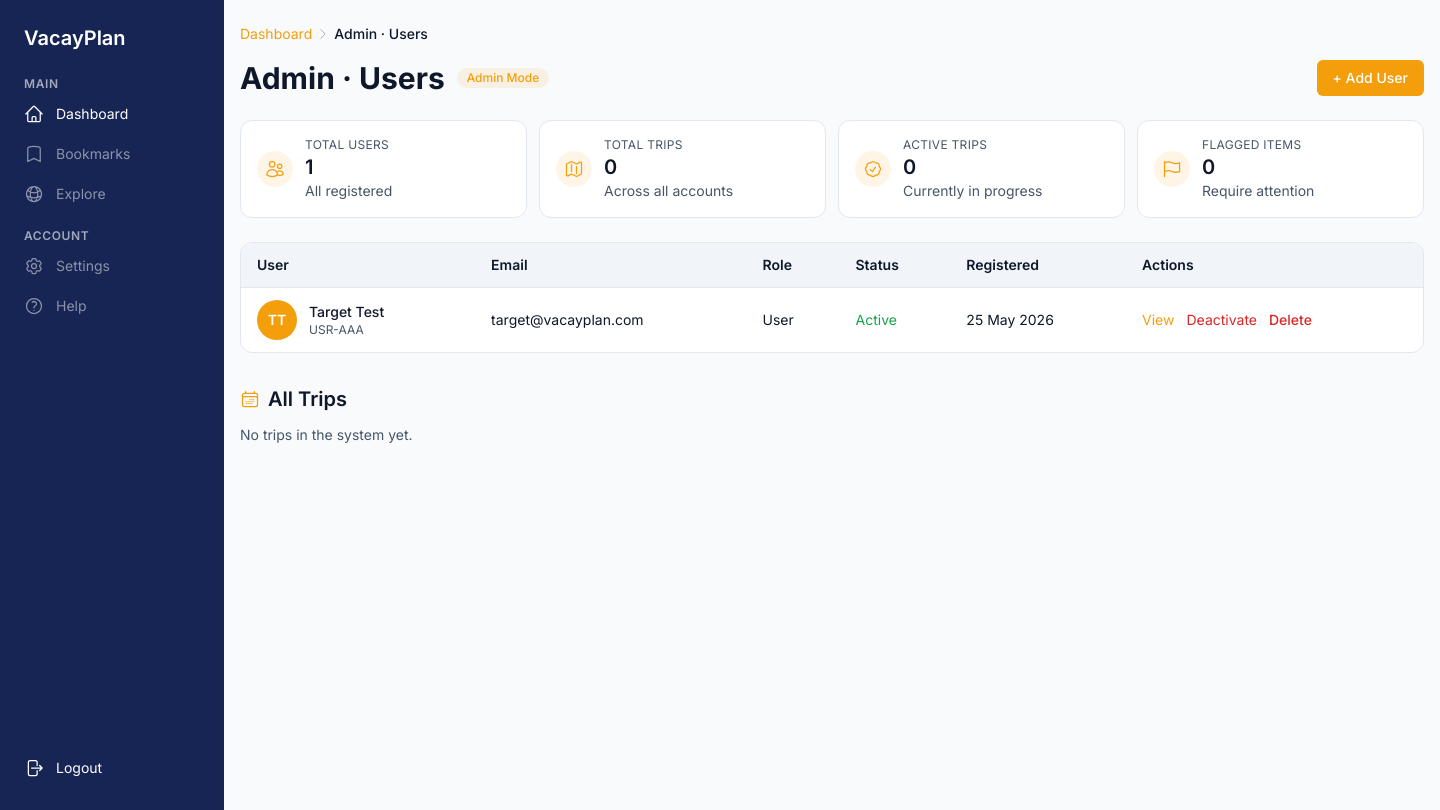
Scenario: AdminUserList › delete user › surfaces the server error message inside the dialog on DELETE failure
Click the button "Delete".
click(1290, 320)  # box [1269, 310, 1312, 330]
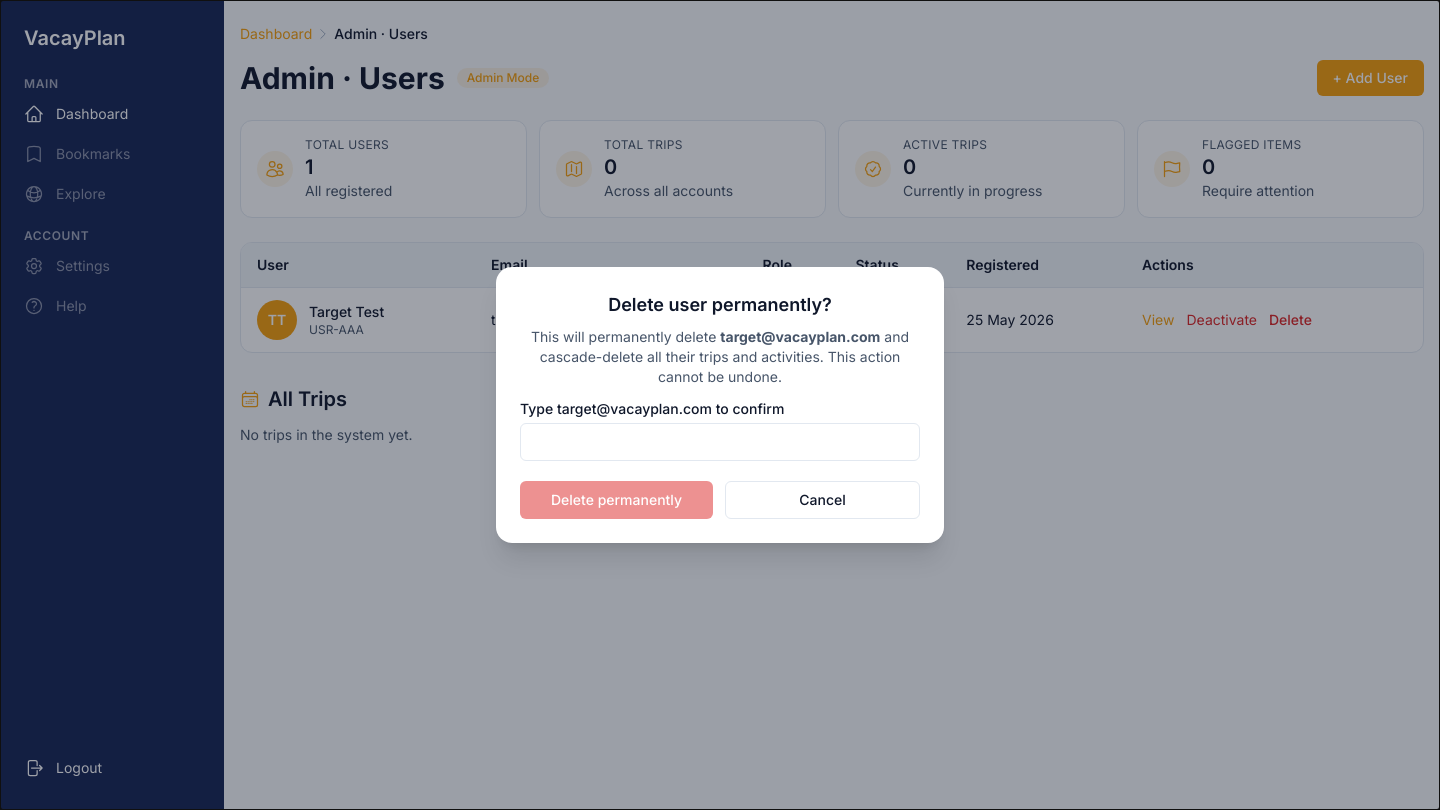
Type "target@vacayplan.com" into the field labelled "Type target@vacayplan.com to confirm".
click(720, 442); type("target@vacayplan.com")  # box [520, 423, 920, 461]
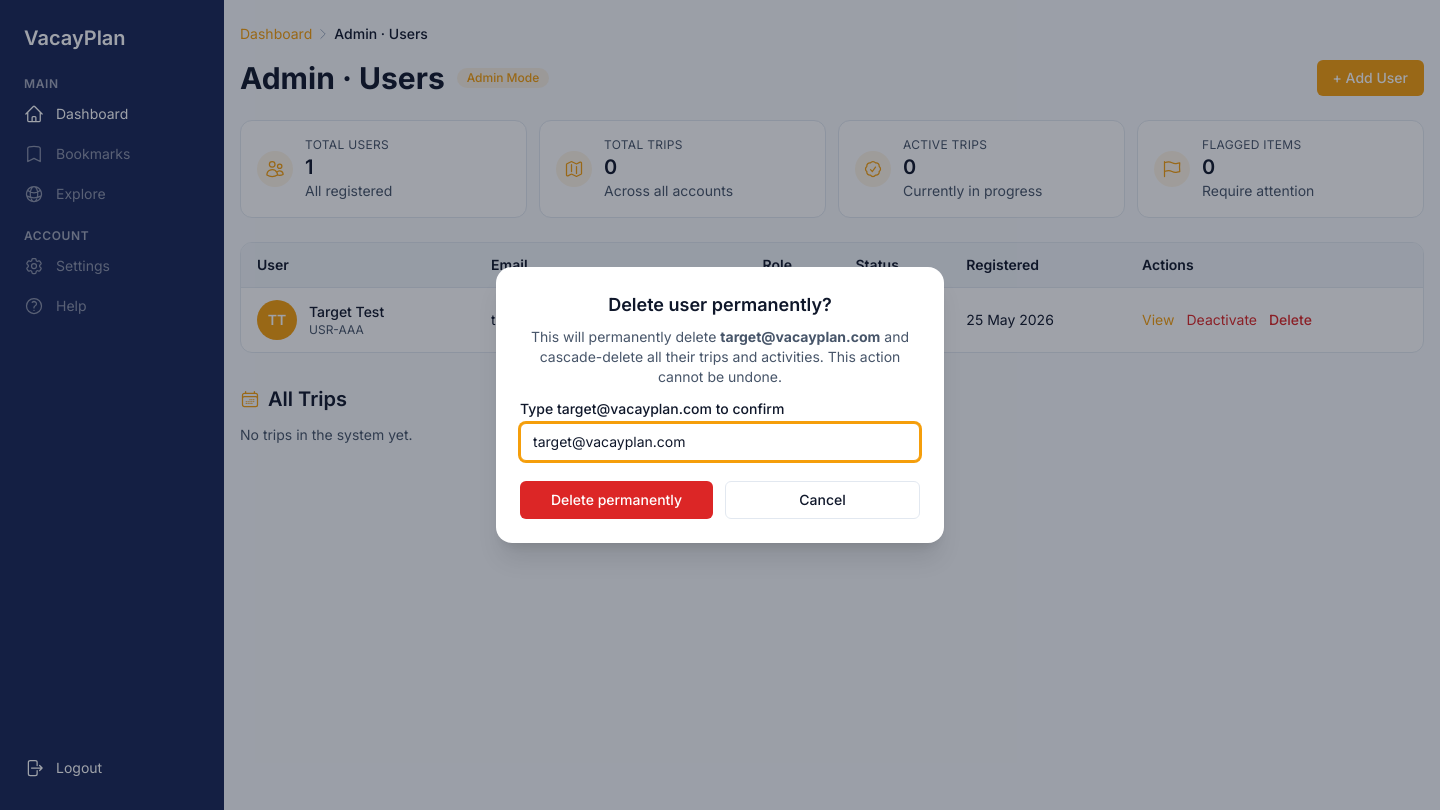
Click the button "Delete permanently".
click(616, 500)  # box [520, 481, 713, 519]
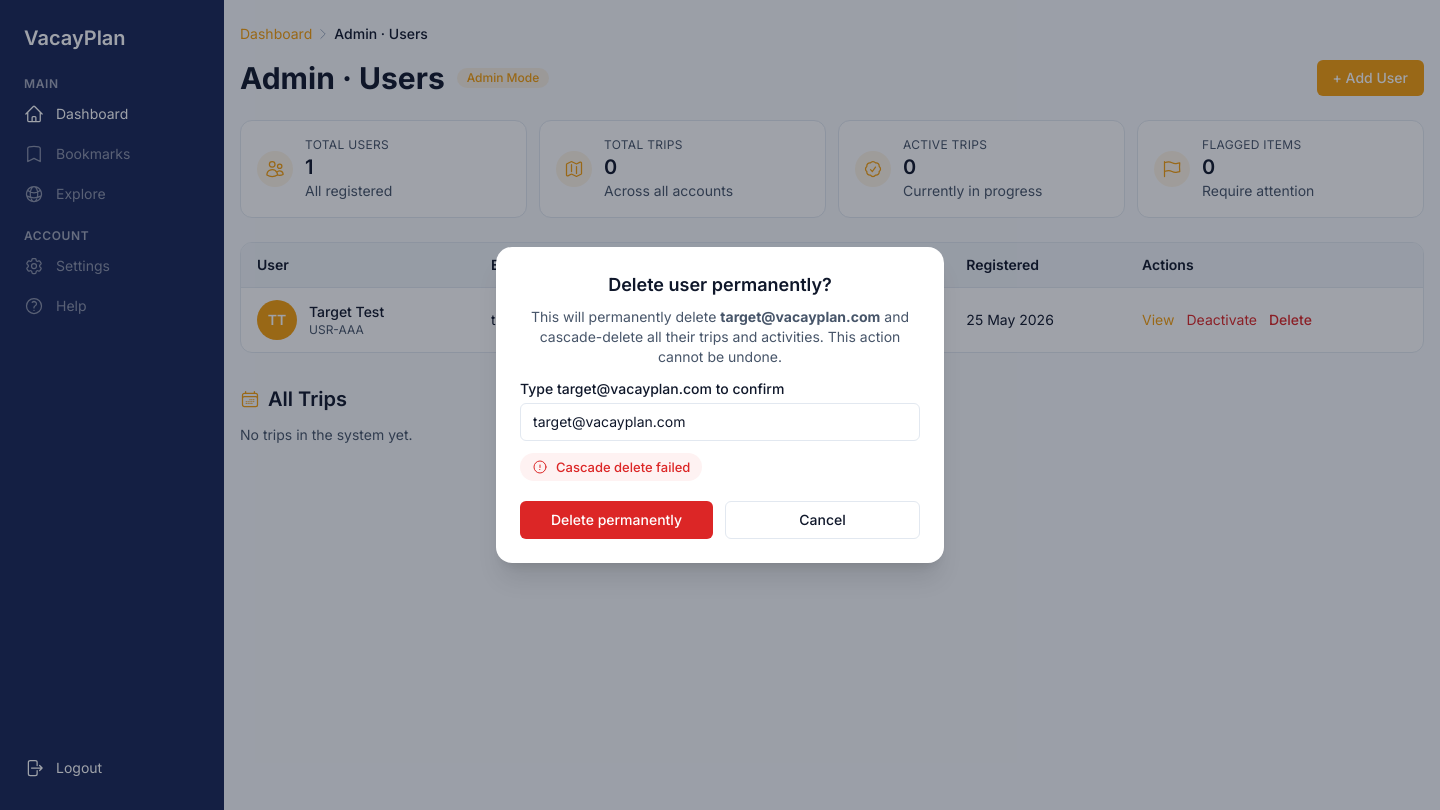
Expected: the text "target@vacayplan.com" is shown, [475, 288, 746, 352]
Expected: the message reads "Cascade delete failed", [556, 459, 690, 475]
